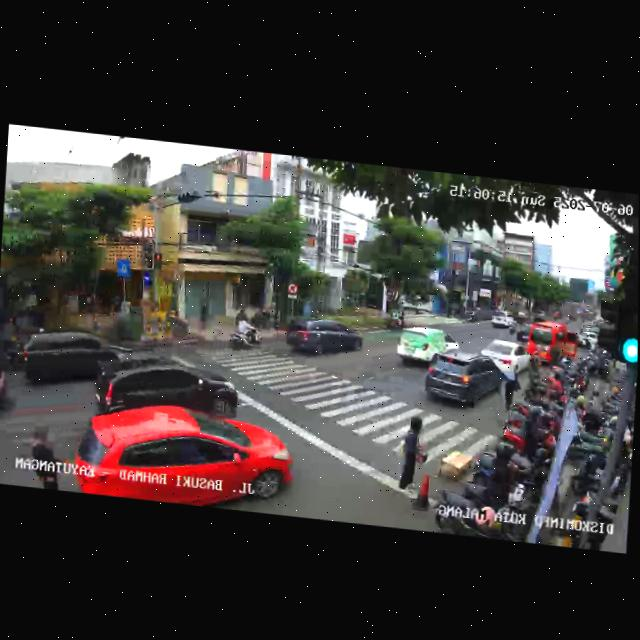car: (74, 395, 296, 516), (95, 349, 241, 426), (21, 324, 125, 400), (421, 350, 509, 416), (284, 314, 361, 366), (395, 323, 464, 375), (528, 320, 580, 369), (479, 336, 534, 375), (491, 309, 517, 332), (515, 322, 531, 343)
motorcycle: (229, 309, 262, 354)
person: (12, 423, 70, 492), (396, 419, 422, 502), (498, 365, 523, 420)
